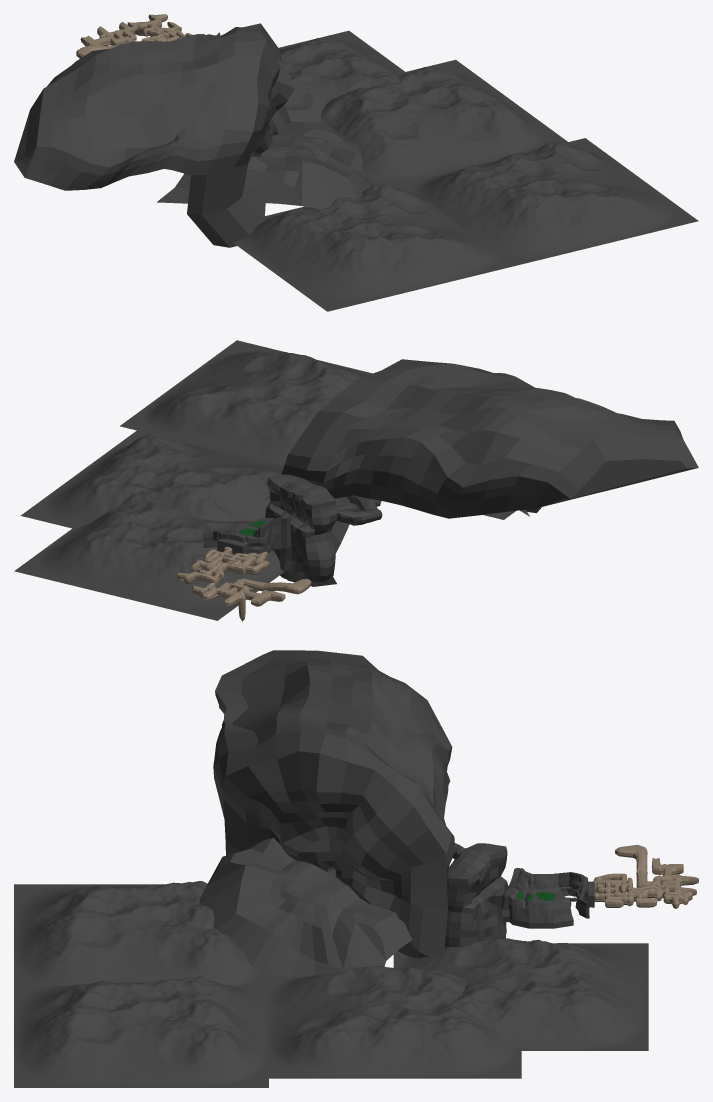
The model's file is map FPS survival7.fbx.
The picture shows the model from 3 angles, top to bottom: view 1: azimuth 30°, elevation 25°; view 2: azimuth 150°, elevation 25°; view 3: azimuth 270°, elevation 25°; orthographic projection. The views are drawn at different scales.
Visible parts, largest first — view 1: Cube, Landscape.001, Landscape.003, Landscape, Landscape.004, Cube.001; view 2: Cube, Landscape.001, Landscape.004, Landscape, Cube.001, Cube.002, Cube.003; view 3: Cube, Landscape.001, Landscape, Landscape.003, Landscape.004, Cube.001, Cube.002.
Part boxes in pixels (box(x1,y1,x2,y2)): Cube: box(14, 23, 375, 247); Landscape.001: box(392, 138, 698, 268); Landscape.003: box(233, 181, 523, 311); Landscape: box(320, 59, 568, 185); Landscape.004: box(278, 30, 406, 122); Cube.001: box(76, 14, 192, 58); Cube: box(233, 359, 698, 586); Landscape.001: box(120, 340, 372, 465); Landscape.004: box(14, 490, 284, 620); Landscape: box(20, 430, 283, 528); Cube.001: box(176, 546, 311, 621); Cube.002: box(203, 531, 270, 554); Cube.003: box(291, 495, 382, 528); Cube: box(199, 650, 573, 976); Landscape.001: box(14, 976, 268, 1087); Landscape: box(266, 966, 521, 1078); Landscape.003: box(14, 881, 268, 991); Landscape.004: box(393, 938, 648, 1050); Cube.001: box(590, 844, 698, 908); Cube.002: box(557, 872, 594, 918).
Bounding box in the file's own units: 48153 × 16258 × 45407.
